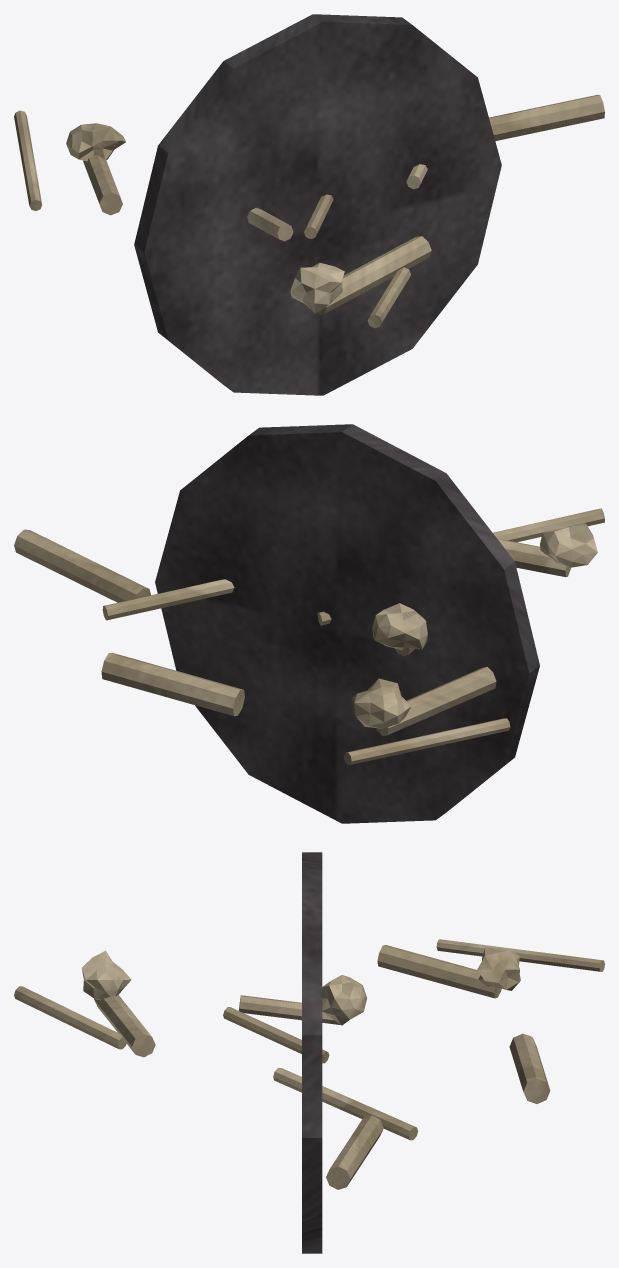
File: 0228_bone_heap_03.glb
3 views of the same model, one above another, from view 1: azimuth 30°, elevation 25°; view 2: azimuth 150°, elevation 25°; view 3: azimuth 270°, elevation 25° (orthographic). The views are drawn at different scales.
Visible parts, largest first — view 1: ash, bone; view 2: ash, bone; view 3: bone, ash.
Part boxes in pixels (bbox=[...]): ash: bbox=[134, 14, 501, 395]; bone: bbox=[14, 94, 604, 328]; ash: bbox=[155, 424, 539, 823]; bone: bbox=[14, 508, 604, 764]; bone: bbox=[14, 939, 604, 1189]; ash: bbox=[302, 852, 322, 1253].
Bounding box in the file's own units: 2.33 × 1.6 × 2.35.
Materials: 2 (2 with a texture image).
